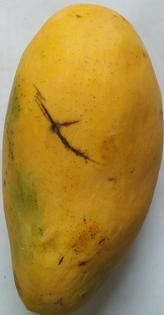Ripe: (0, 1, 164, 315)
